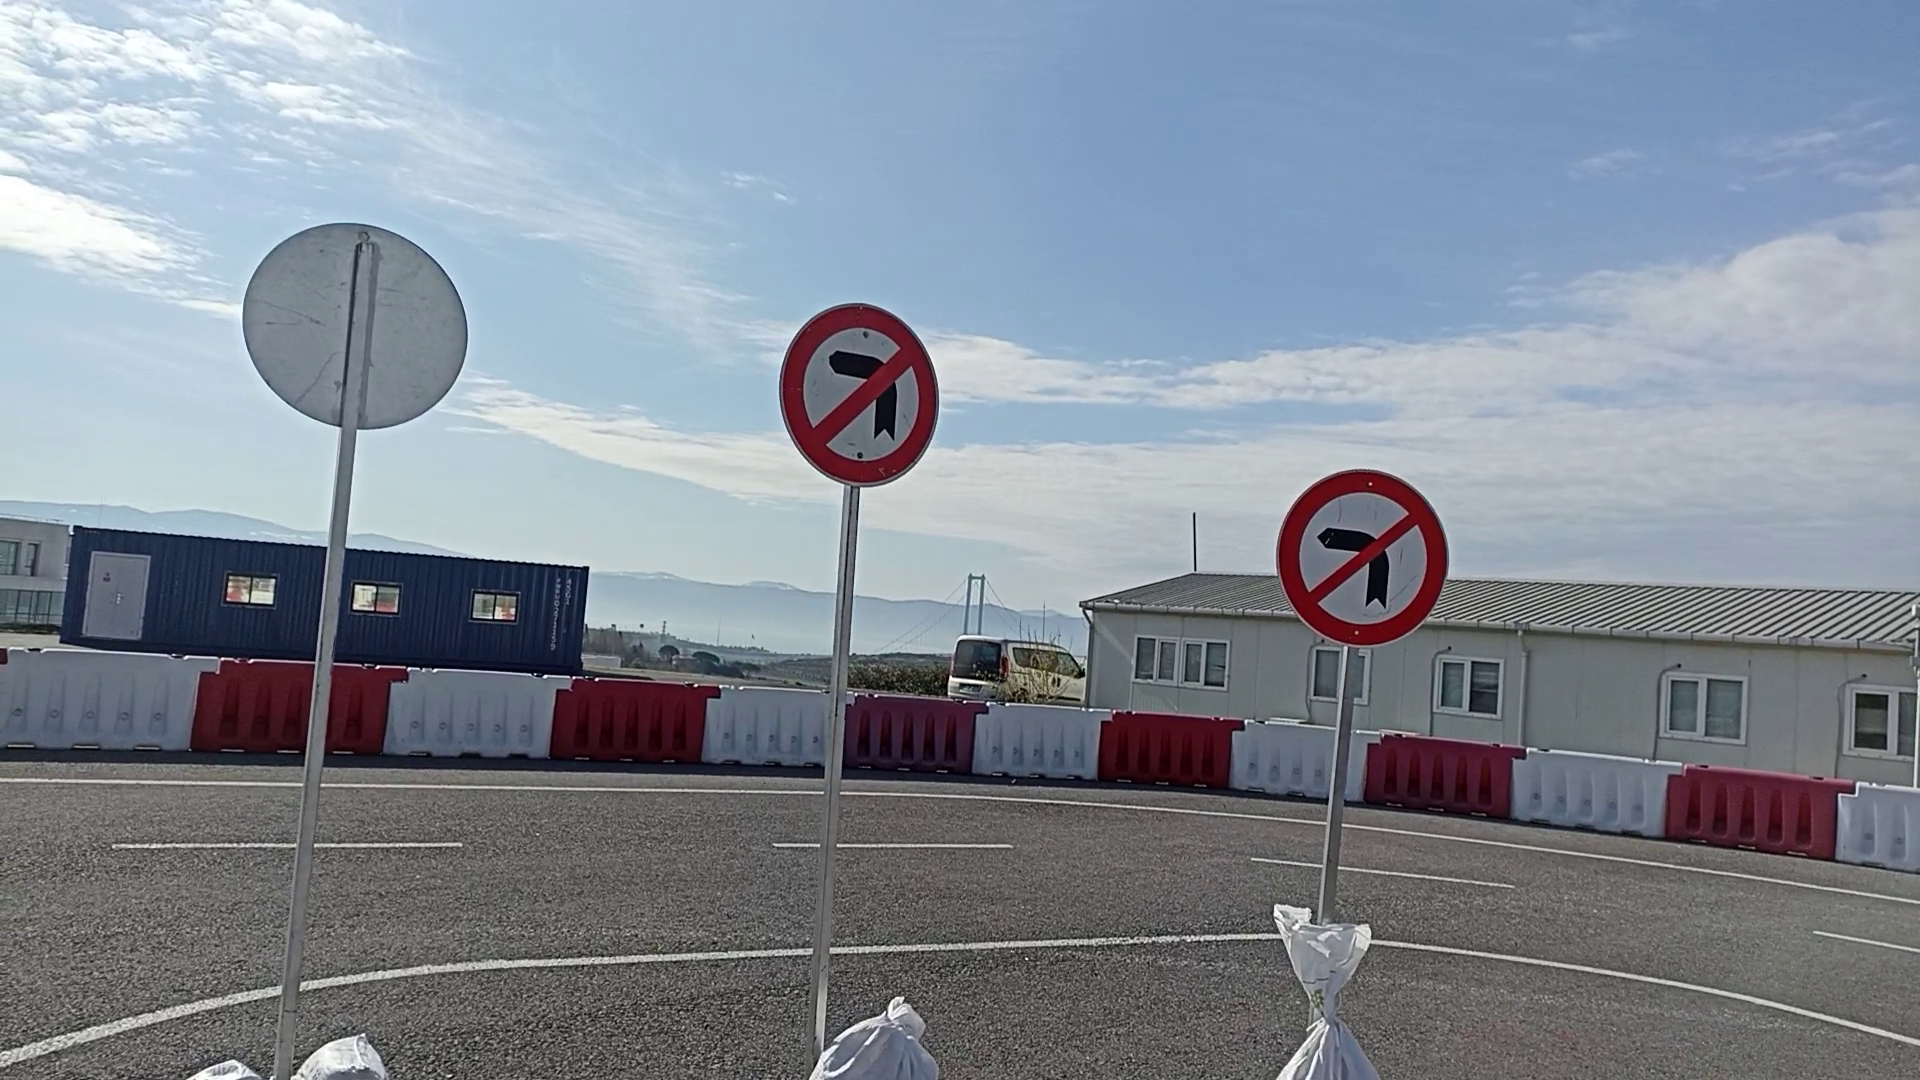noleft: (1273, 465, 1455, 651), (777, 299, 944, 491)
